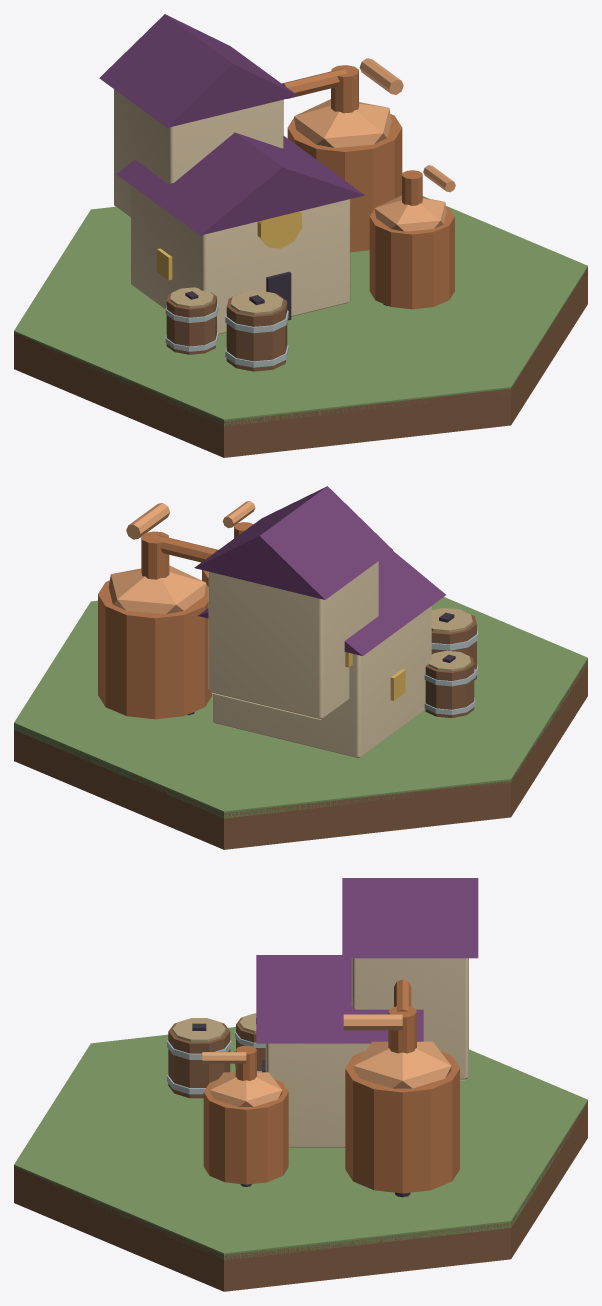
Rendered from brewhouse.glb.
3 renders of one model, top to bottom at view 1: azimuth 30°, elevation 25°; view 2: azimuth 150°, elevation 25°; view 3: azimuth 270°, elevation 25°, orthographic.
Parts seen in each view (by area): view 1: Cone.072, Cone.071, Cube.013, gable.001, gable.002, Cube.017, Cone.073, Cone.082, Icosphere.067, Cone.078, Cone.088, Icosphere.066 (+8 smaller); view 2: Cone.072, Cone.071, Cube.017, Cube.013, gable.002, Cone.082, gable.001, Icosphere.067, Cone.088, Cone.083, Cone.087, Cone.078 (+3 smaller); view 3: Cone.072, Cone.071, Cone.082, gable.002, gable.001, Cube.017, Cube.013, Cone.073, Icosphere.067, Cone.078, Icosphere.066, Cone.083 (+4 smaller).
Part boxes in pixels (bbox=[...]): Cone.072: bbox=[14, 196, 587, 425]; Cone.071: bbox=[14, 268, 587, 457]; Cube.013: bbox=[131, 185, 350, 334]; gable.001: bbox=[116, 132, 364, 235]; gable.002: bbox=[99, 14, 297, 127]; Cube.017: bbox=[114, 89, 283, 217]; Cone.073: bbox=[369, 206, 454, 309]; Cone.082: bbox=[287, 114, 402, 252]; Icosphere.067: bbox=[294, 99, 391, 147]; Cone.078: bbox=[226, 294, 287, 371]; Cone.088: bbox=[166, 292, 216, 354]; Icosphere.066: bbox=[374, 195, 446, 231]; Cone.072: bbox=[14, 597, 587, 818]; Cone.071: bbox=[14, 660, 587, 849]; Cube.017: bbox=[208, 561, 378, 719]; Cube.013: bbox=[212, 606, 431, 757]; gable.002: bbox=[194, 486, 392, 599]; Cone.082: bbox=[98, 580, 212, 719]; gable.001: bbox=[198, 551, 445, 655]; Icosphere.067: bbox=[108, 565, 206, 614]; Cone.088: bbox=[425, 653, 474, 717]; Cone.083: bbox=[141, 531, 169, 579]; Cone.087: bbox=[152, 535, 218, 562]; Cone.078: bbox=[431, 612, 476, 680]; Cone.072: bbox=[14, 1027, 587, 1259]; Cone.071: bbox=[14, 1101, 587, 1291]; Cone.082: bbox=[345, 1051, 459, 1193]; gable.002: bbox=[342, 878, 478, 958]; gable.001: bbox=[256, 955, 423, 1043]; Cube.017: bbox=[351, 958, 468, 1080]; Cube.013: bbox=[265, 1043, 370, 1147]; Cone.073: bbox=[203, 1079, 288, 1184]; Icosphere.067: bbox=[353, 1041, 451, 1088]; Cone.078: bbox=[168, 1023, 230, 1098]; Icosphere.066: bbox=[210, 1072, 282, 1106]; Cone.083: bbox=[388, 1006, 416, 1053].
Size of the model in its own units: 3.67 by 1.9 by 3.67.
